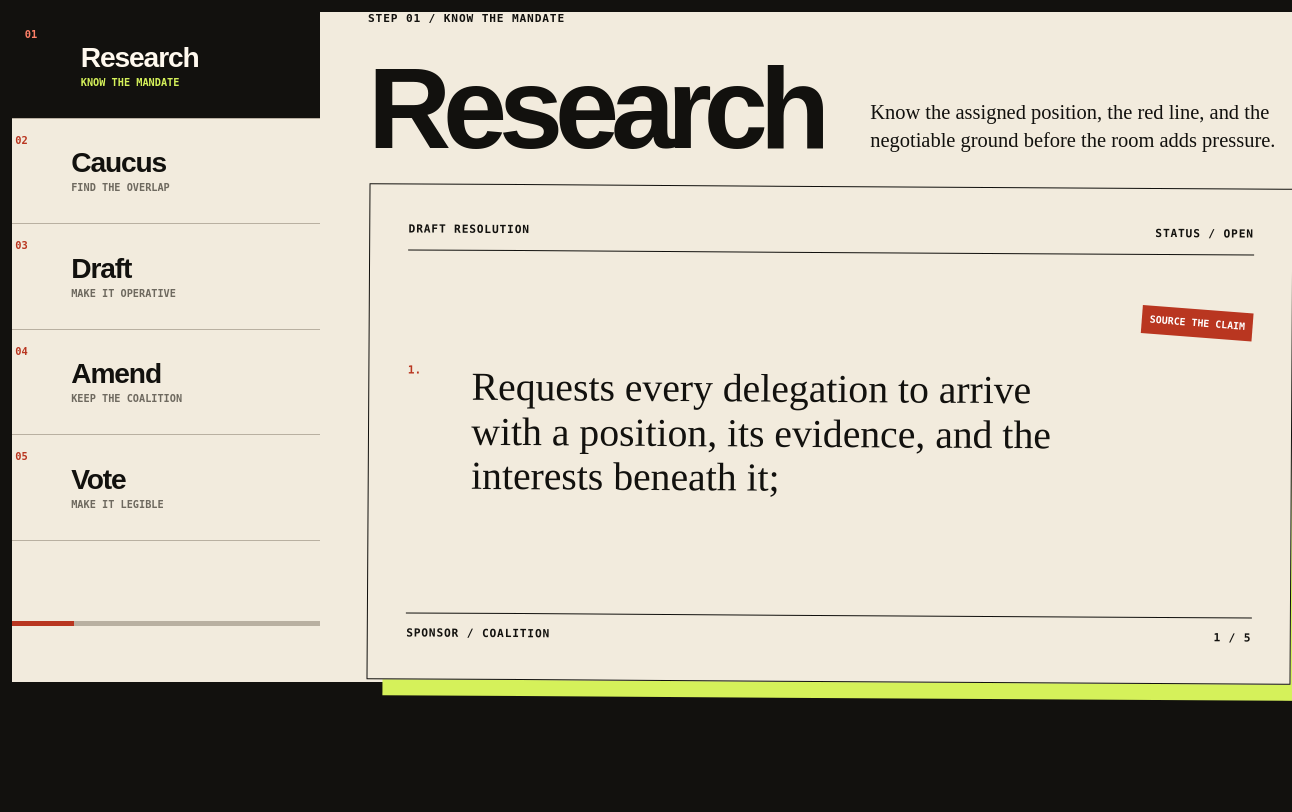
it: ProcedureSequence › commits the selected procedural state and clause text
The image size is (1292, 812).
Expected: the text with test id "resolution-clause" shows "Requests every delegation", [471, 365, 1051, 500]
Click the tab "04 Amend Keep the coalition".
click(116, 374)  # box [12, 330, 320, 435]
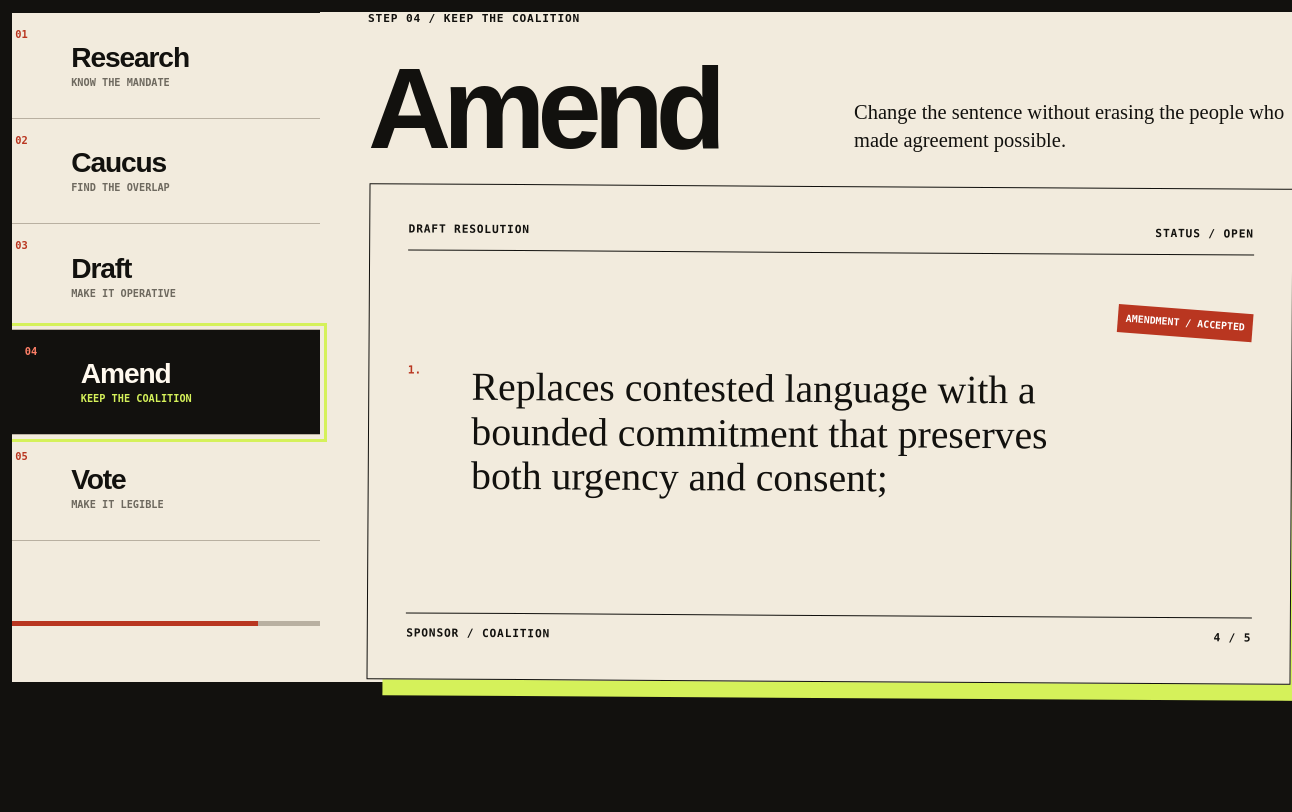
Expected: the text with test id "resolution-clause" shows "Replaces contested language", [471, 365, 1048, 501]
